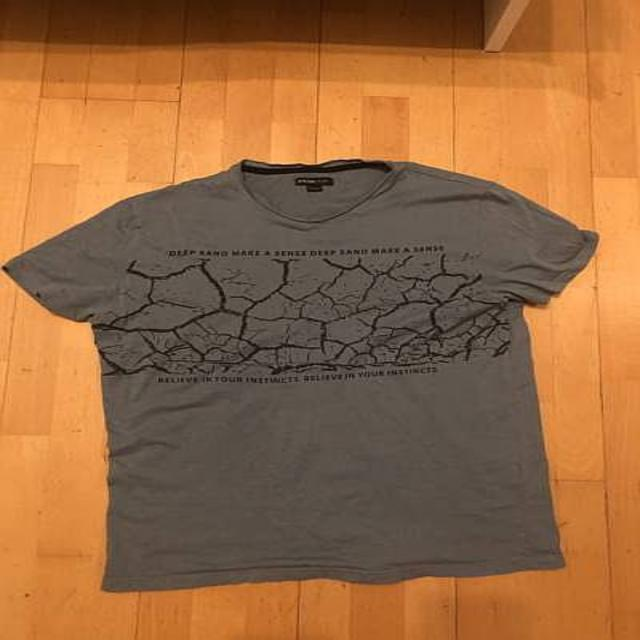T_SHIRT: (2, 140, 640, 594)
